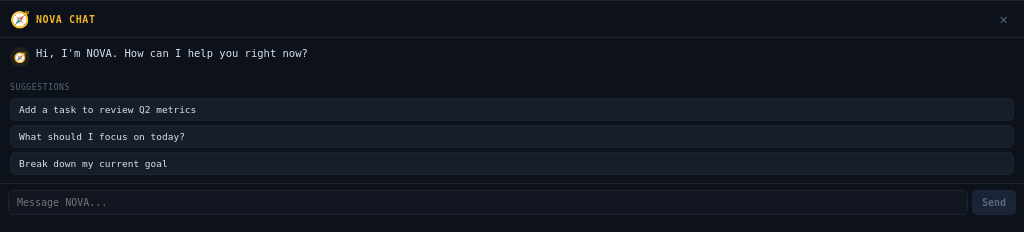
NovaCompassChat › handleSend › sends message and displays response without actions
Type "help me" into the field with placeholder "Message NOVA..." at (488, 202), box [8,190,968,215]
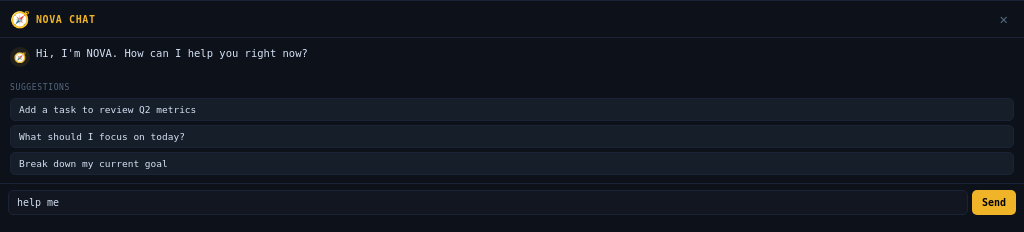
Click the button "Send" at (994, 202), box [972,190,1016,215]
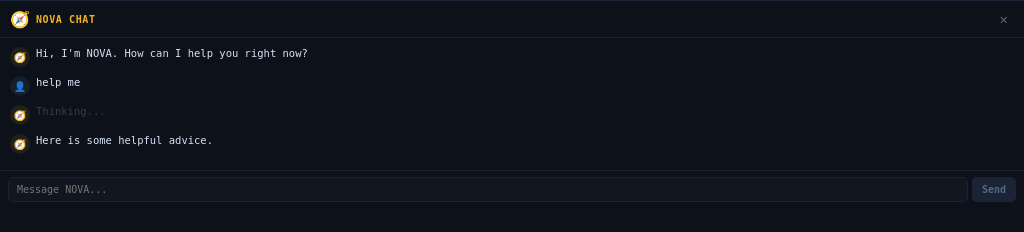
Expected: the text "Here is some helpful advice." is shown, [36,134,213,146]
